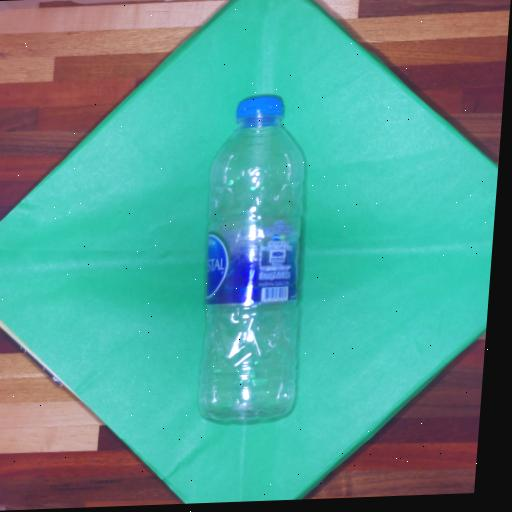bottle: (200, 96, 304, 419)
